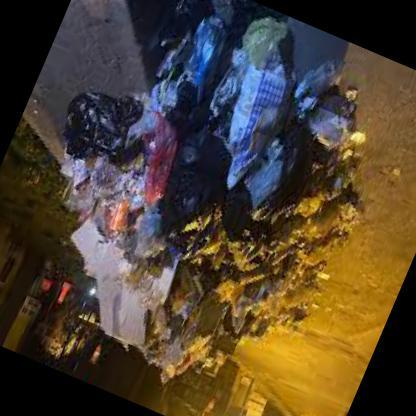Garbage: (113, 0, 374, 264), (34, 98, 262, 274), (204, 151, 352, 330), (84, 213, 224, 376), (146, 248, 258, 378), (58, 219, 193, 319)
